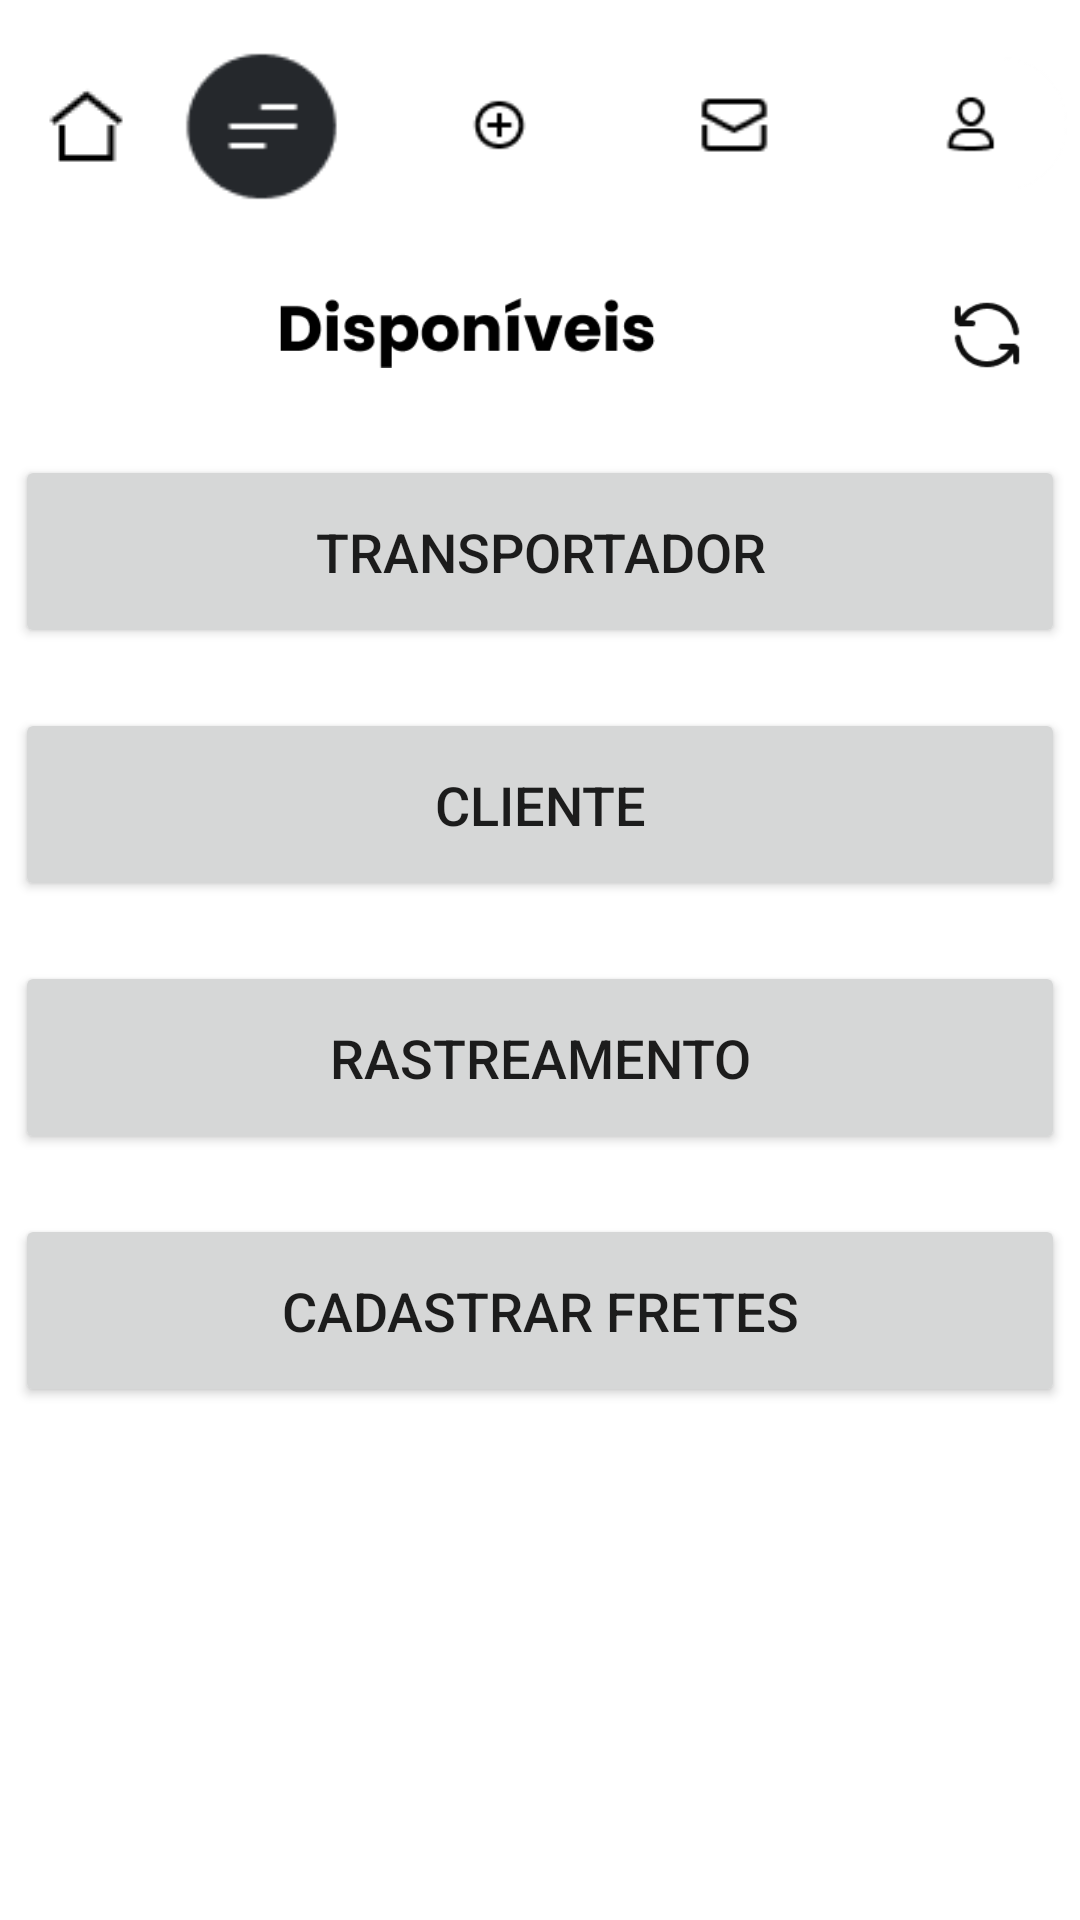

Icon click points for this 1080 x 1920 phone screenshot, format point (x, y):
home: point (86, 126)
reload: point (987, 335)
